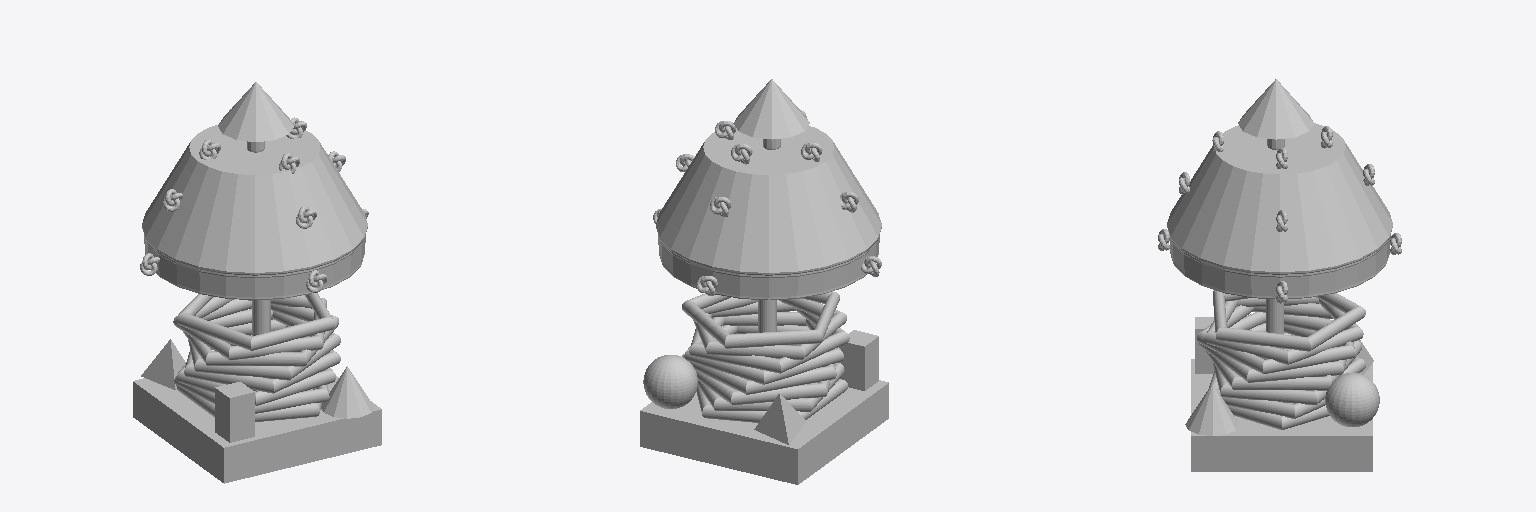
3 views of the same model, side by side, from view 1: azimuth 30°, elevation 25°; view 2: azimuth 150°, elevation 25°; view 3: azimuth 270°, elevation 25° (orthographic).
Parts seen in each view (by area): view 1: Cylinder, Plane, Torus7, Cone, Torus5, Torus4, Torus6, Box, Torus3, Cone1, Torus2, Torus1 (+3 smaller); view 2: Cylinder, Plane, Torus7, Cone, Torus6, Torus4, Torus5, Sphere, Torus3, Box, Torus2, Tetrahedron (+3 smaller); view 3: Cylinder, Plane, Torus7, Cone, Torus5, Torus6, Torus4, Sphere, Torus3, Cone1, Torus2, Torus1 (+3 smaller).
Boxes of the visible parts, box(x1,y1,x2,y2) form: Cylinder: box(142, 124, 367, 299); Plane: box(133, 376, 381, 483); Torus7: box(176, 293, 334, 350); Cone: box(218, 82, 293, 141); Torus5: box(183, 299, 338, 366); Torus4: box(188, 309, 340, 380); Torus6: box(173, 295, 326, 360); Box: box(215, 382, 254, 442); Torus3: box(184, 319, 340, 393); Cone1: box(321, 366, 373, 418); Torus2: box(176, 335, 335, 405); Torus1: box(174, 351, 329, 413); Cylinder: box(656, 126, 881, 299); Plane: box(640, 380, 888, 484); Torus7: box(682, 291, 839, 348); Cone: box(733, 79, 809, 139); Torus6: box(693, 297, 846, 359); Torus4: box(684, 312, 843, 384); Torus5: box(689, 300, 849, 373); Sphere: box(643, 355, 697, 408); Torus3: box(682, 325, 836, 394); Box: box(839, 330, 878, 390); Torus2: box(696, 345, 830, 404); Tetrahedron: box(754, 393, 805, 444); Cylinder: box(1167, 123, 1392, 298); Plane: box(1191, 359, 1372, 471); Torus7: box(1213, 290, 1365, 351); Cone: box(1238, 79, 1313, 139); Torus5: box(1197, 303, 1355, 373); Torus6: box(1204, 297, 1363, 364); Torus4: box(1199, 312, 1346, 382); Sphere: box(1325, 373, 1379, 426); Torus3: box(1204, 323, 1361, 390); Cone1: box(1185, 383, 1239, 435); Torus2: box(1213, 333, 1365, 404); Torus1: box(1209, 349, 1325, 418).
Bounding box in the file's own units: 14.33 × 21.31 × 13.35.